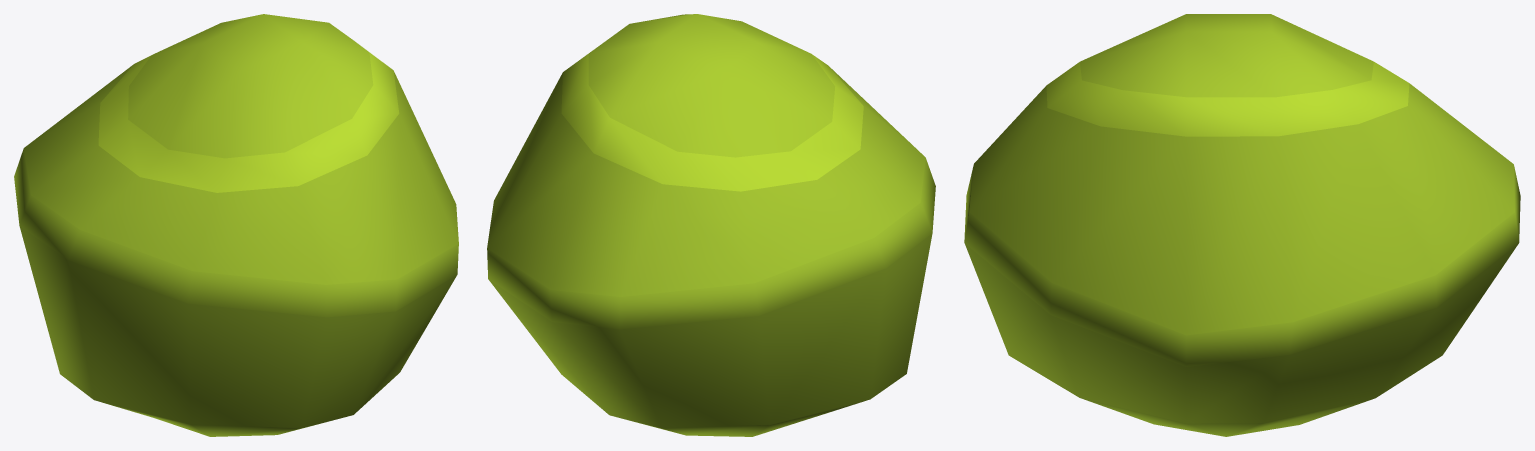
The model's file is magic_ore_L.fbx.
3 views of the same model, side by side, from view 1: azimuth 30°, elevation 25°; view 2: azimuth 150°, elevation 25°; view 3: azimuth 270°, elevation 25° (orthographic). The views are drawn at different scales.
Parts seen in each view (by area): view 1: magic_ore_L; view 2: magic_ore_L; view 3: magic_ore_L.
Part boxes in pixels (x1,y1,x2,y2): magic_ore_L: (14, 14, 458, 436); magic_ore_L: (487, 14, 935, 436); magic_ore_L: (964, 14, 1520, 436).
Bounding box in the file's own units: 57.57 × 50.51 × 64.42.
1 material, 1 textured.
